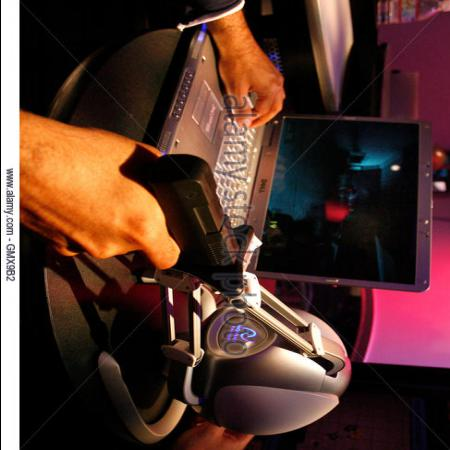Pistol: (107, 152, 267, 286)
